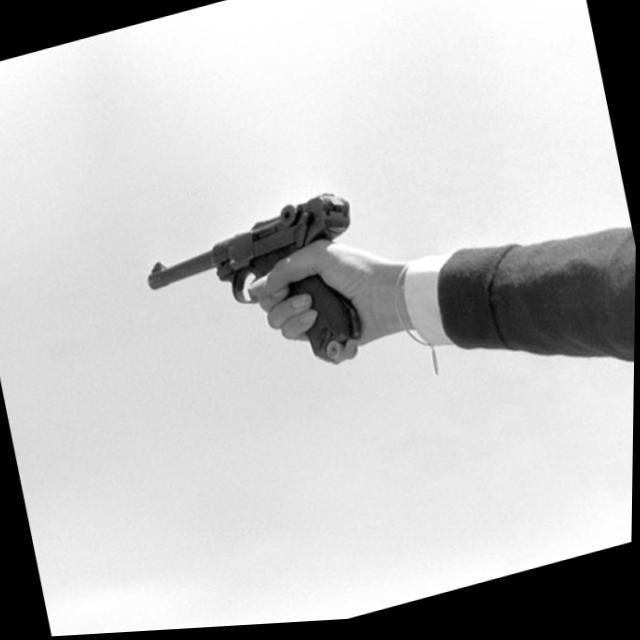weapon: (136, 188, 382, 412)
